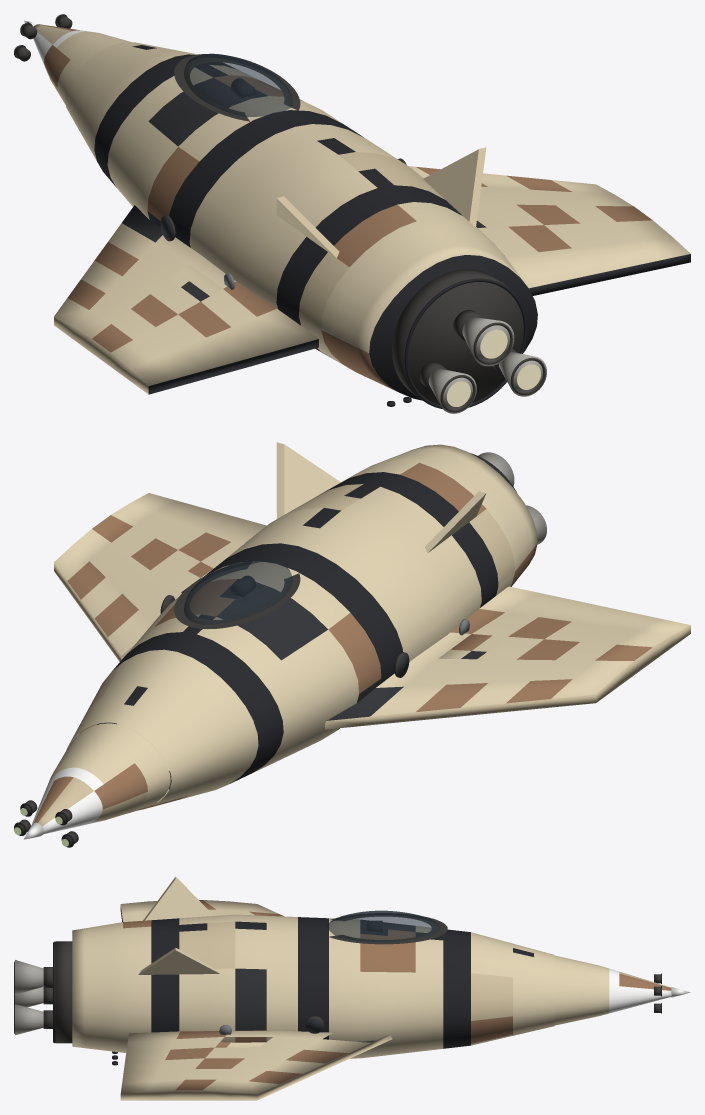
The model's file is Ship_Standard_1.glb.
The picture shows the model from 3 angles, top to bottom: view 1: azimuth 30°, elevation 25°; view 2: azimuth 150°, elevation 25°; view 3: azimuth 270°, elevation 25°; orthographic projection. The views are drawn at different scales.
Visible parts, largest first — view 1: Fuselage_RoundedSectionPaintedMesh, Wing_Left_EmbeddedPaintShoulderPlane, Wing_Right_EmbeddedPaintShoulderPlane, EngineBlock_AftSectionMountPlate, CanopyGlass_LowDorsalDome, Nose_FacetedTaperPaintedMesh, TailFin_Right_CantedStabilizerPaintedMesh, CanopyFrame_LowDorsalRim, EngineEmitter, EngineBlock_AftDarkTrimRing, EngineBell_CenterUpper_BurnishedNozzle, TailFin_Left_CantedStabilizerPaintedMesh (+2 smaller); view 2: Fuselage_RoundedSectionPaintedMesh, Wing_Left_EmbeddedPaintShoulderPlane, Wing_Right_EmbeddedPaintShoulderPlane, Nose_FacetedTaperPaintedMesh, CanopyGlass_LowDorsalDome, TailFin_Right_CantedStabilizerPaintedMesh, CanopyFrame_LowDorsalRim, TailFin_Left_CantedStabilizerPaintedMesh; view 3: Fuselage_RoundedSectionPaintedMesh, Wing_Right_EmbeddedPaintShoulderPlane, Nose_FacetedTaperPaintedMesh, CanopyGlass_LowDorsalDome, EngineBlock_AftSectionMountPlate, TailFin_Left_CantedStabilizerPaintedMesh, Wing_Left_EmbeddedPaintShoulderPlane, TailFin_Right_CantedStabilizerPaintedMesh, CanopyFrame_LowDorsalRim, EngineBell_CenterUpper_BurnishedNozzle, EngineBell_RightLower_BurnishedNozzle, EngineBell_LeftLower_BurnishedNozzle.
Boxes of the visible parts, <box> form: Fuselage_RoundedSectionPaintedMesh: <box>65,42,537,400</box>; Wing_Left_EmbeddedPaintShoulderPlane: <box>54,205,318,394</box>; Wing_Right_EmbeddedPaintShoulderPlane: <box>408,166,690,295</box>; EngineBlock_AftSectionMountPlate: <box>392,269,523,405</box>; CanopyGlass_LowDorsalDome: <box>184,53,292,117</box>; Nose_FacetedTaperPaintedMesh: <box>33,24,131,104</box>; TailFin_Right_CantedStabilizerPaintedMesh: <box>423,147,486,226</box>; CanopyFrame_LowDorsalRim: <box>174,54,300,121</box>; EngineEmitter: <box>447,329,540,406</box>; EngineBlock_AftDarkTrimRing: <box>404,278,527,408</box>; EngineBell_CenterUpper_BurnishedNozzle: <box>462,317,514,366</box>; TailFin_Left_CantedStabilizerPaintedMesh: <box>276,196,339,257</box>; Fuselage_RoundedSectionPaintedMesh: <box>66,444,537,810</box>; Wing_Left_EmbeddedPaintShoulderPlane: <box>325,586,690,729</box>; Wing_Right_EmbeddedPaintShoulderPlane: <box>54,493,266,661</box>; Nose_FacetedTaperPaintedMesh: <box>32,723,170,834</box>; CanopyGlass_LowDorsalDome: <box>184,559,292,624</box>; TailFin_Right_CantedStabilizerPaintedMesh: <box>276,442,340,518</box>; CanopyFrame_LowDorsalRim: <box>174,562,300,629</box>; TailFin_Left_CantedStabilizerPaintedMesh: <box>425,491,486,553</box>; Fuselage_RoundedSectionPaintedMesh: <box>72,914,554,1058</box>; Wing_Right_EmbeddedPaintShoulderPlane: <box>120,1030,392,1100</box>; Nose_FacetedTaperPaintedMesh: <box>554,955,671,1025</box>; CanopyGlass_LowDorsalDome: <box>327,910,440,941</box>; EngineBlock_AftSectionMountPlate: <box>55,941,72,1043</box>; TailFin_Left_CantedStabilizerPaintedMesh: <box>143,876,213,920</box>; Wing_Left_EmbeddedPaintShoulderPlane: <box>120,900,284,922</box>; TailFin_Right_CantedStabilizerPaintedMesh: <box>138,947,219,974</box>; CanopyFrame_LowDorsalRim: <box>329,913,447,944</box>; EngineBell_CenterUpper_BurnishedNozzle: <box>15,960,43,994</box>; EngineBell_RightLower_BurnishedNozzle: <box>15,1004,43,1035</box>; EngineBell_LeftLower_BurnishedNozzle: <box>15,987,43,1007</box>.
Bounding box in the file's own units: 4.82 × 1.65 × 7.24.
